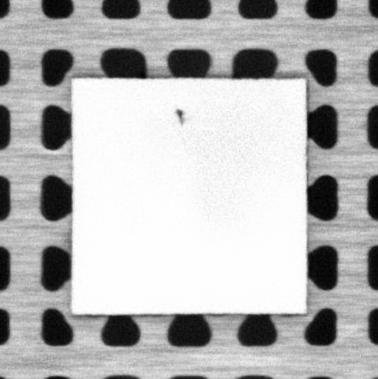DIE_INK: (174, 105, 186, 126)
